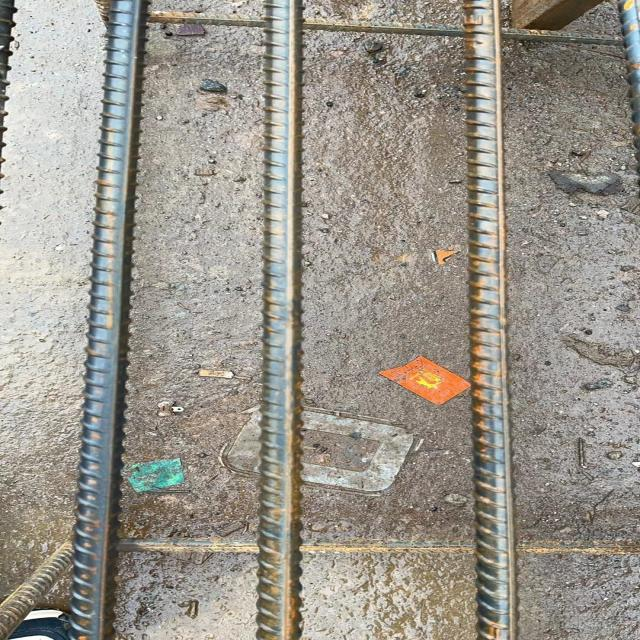ribbed bar: (61, 0, 150, 639), (463, 0, 518, 639), (252, 0, 304, 639), (150, 8, 622, 45), (120, 538, 639, 554), (0, 540, 71, 639)
